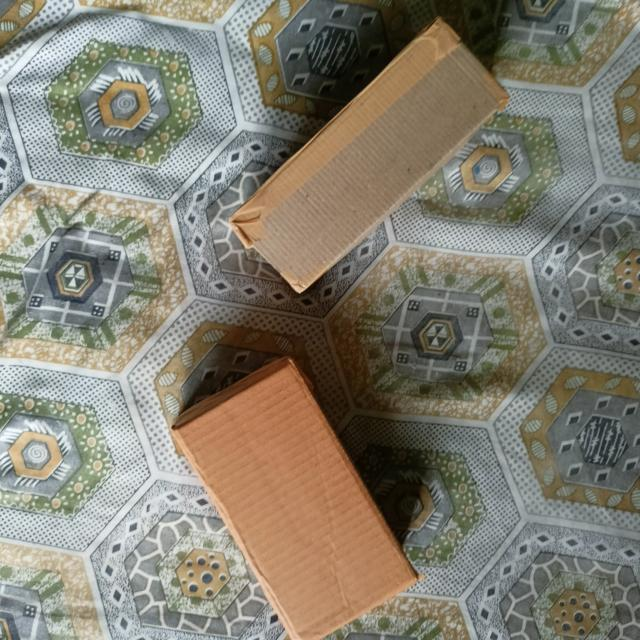box: (226, 20, 508, 291), (178, 365, 415, 640)
